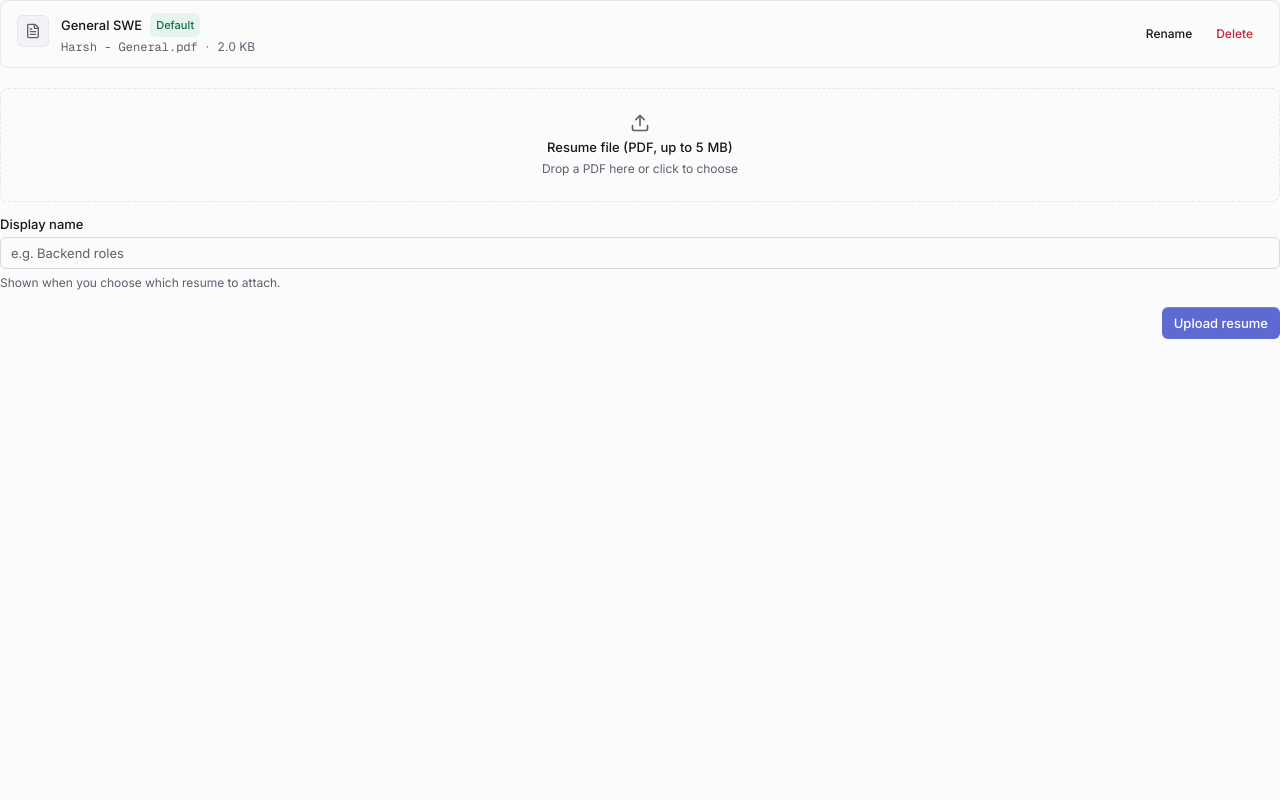
Test: ResumesPanel › explains a 409 delete refusal with the count and keeps the resume
This screenshot has width=1280, height=800.
Click the button with aria-label "delete general swe": (1235,34) [1206,20,1263,48]
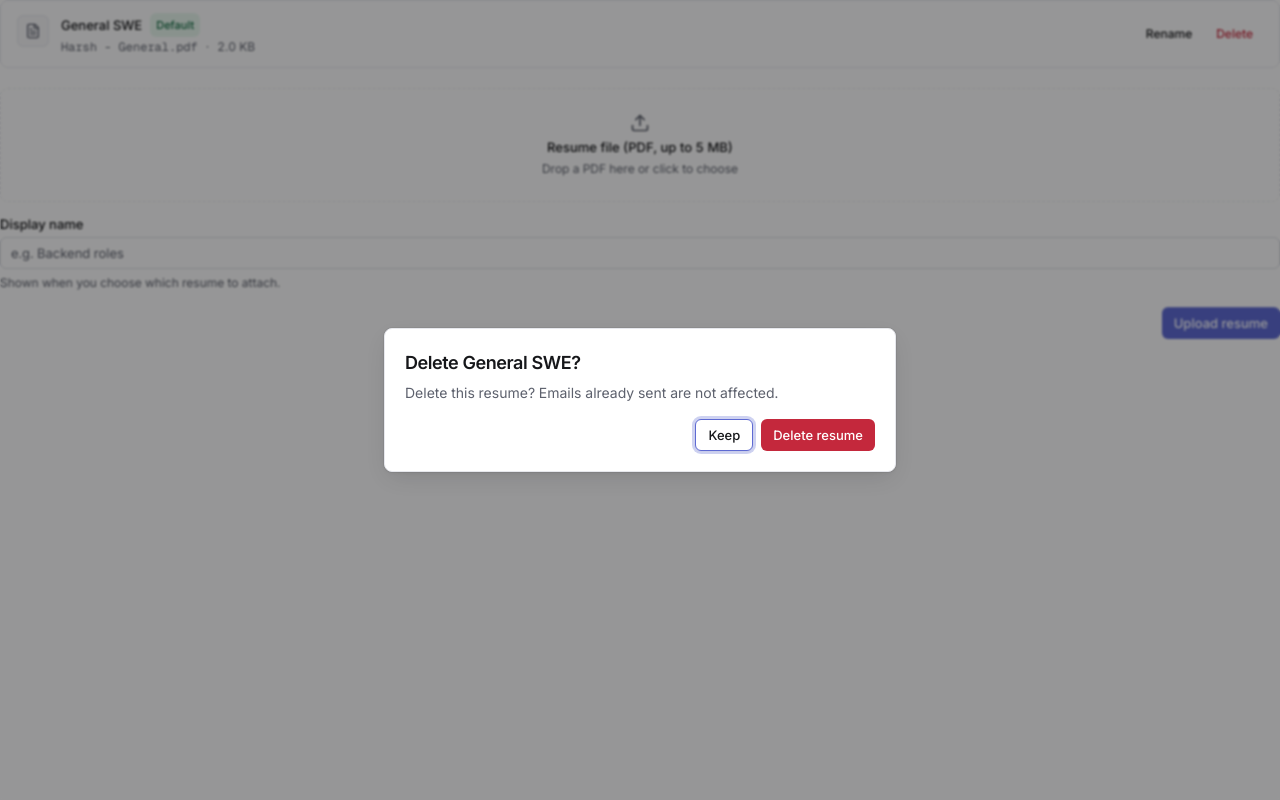
Click the button "Delete resume": (818,435) [761,419,875,451]
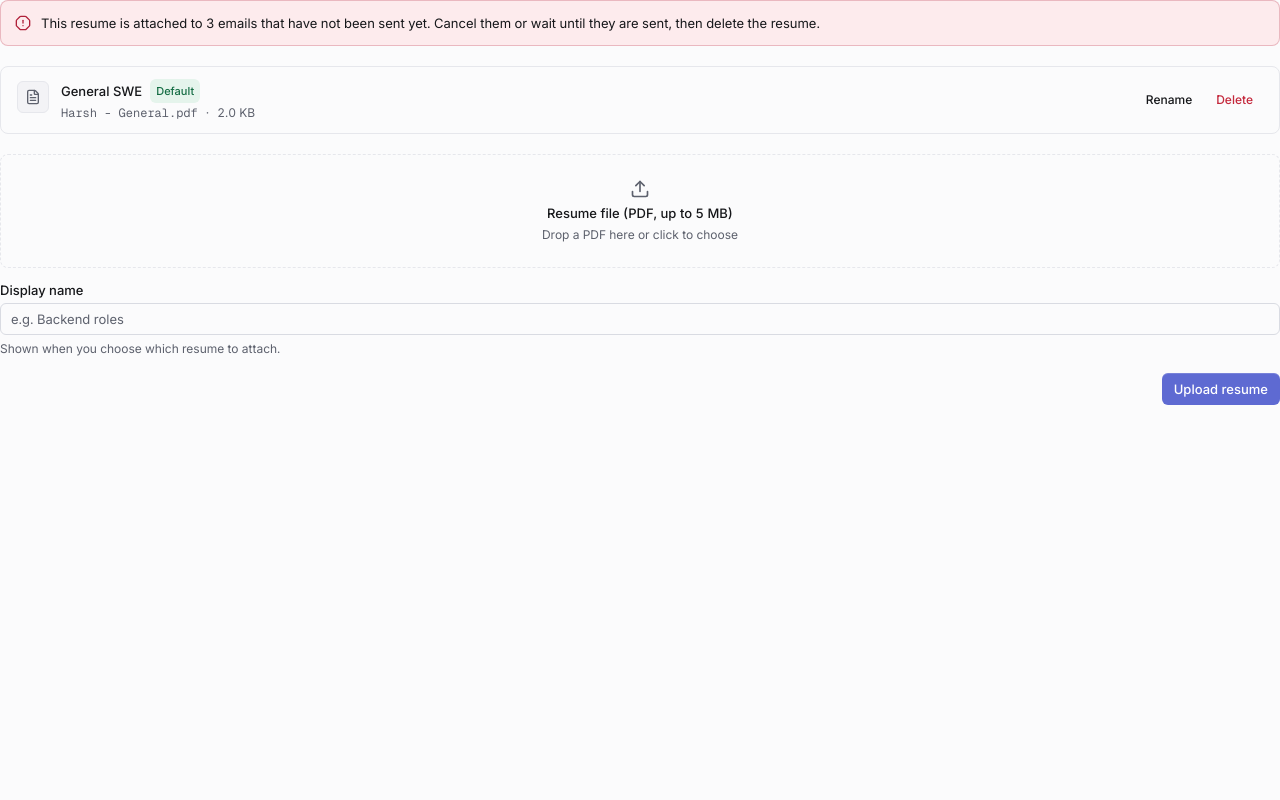
Expected: the text "General SWE" is shown, [61,81,142,101]
Result: the message shows "3 emails" at [41,15,820,31]
Result: the message shows "not been sent yet" at [41,15,820,31]
